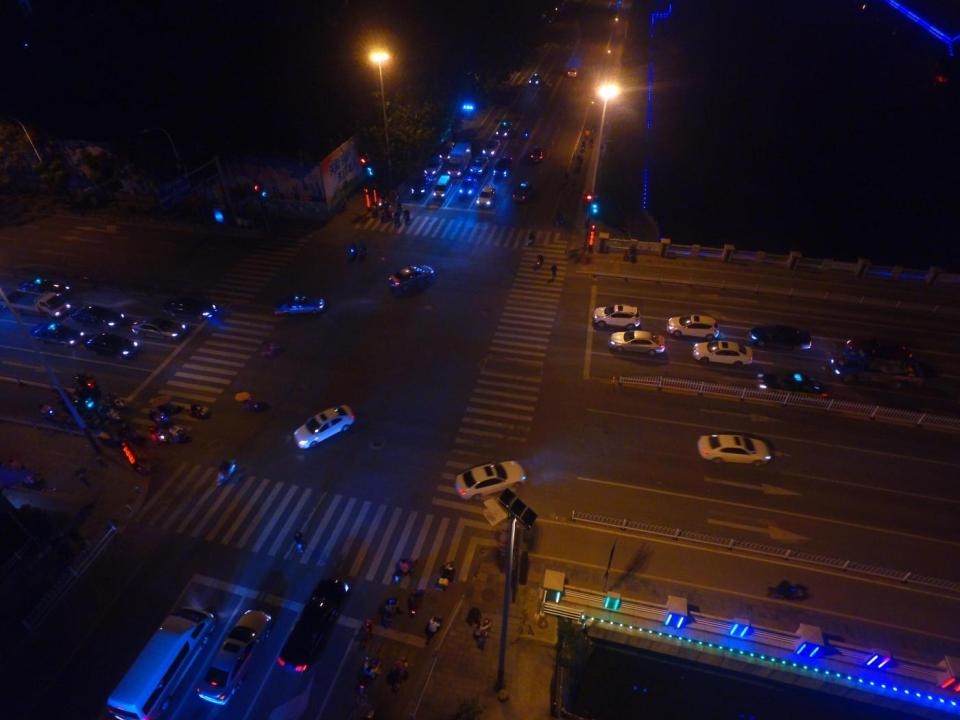car: (196, 609, 276, 705), (278, 573, 350, 675), (453, 457, 529, 503), (830, 352, 926, 387), (695, 430, 773, 471), (291, 403, 355, 449), (757, 366, 828, 402), (748, 322, 812, 355), (847, 337, 919, 363), (693, 339, 753, 369), (608, 328, 667, 356), (161, 293, 220, 321), (68, 302, 126, 330), (16, 276, 70, 305), (86, 332, 139, 361), (28, 321, 84, 348), (387, 262, 437, 292), (132, 315, 187, 341), (666, 314, 720, 340), (593, 303, 641, 331), (271, 289, 326, 311), (410, 171, 434, 195), (476, 185, 497, 211), (459, 174, 477, 202), (491, 156, 513, 178), (423, 156, 444, 179), (468, 156, 490, 175), (512, 181, 530, 203), (481, 138, 500, 156), (496, 121, 512, 136), (530, 145, 543, 163), (528, 72, 541, 86), (567, 67, 578, 77)
truck: (0, 289, 64, 317), (446, 140, 474, 178)
van: (104, 603, 218, 720), (433, 173, 452, 201)
